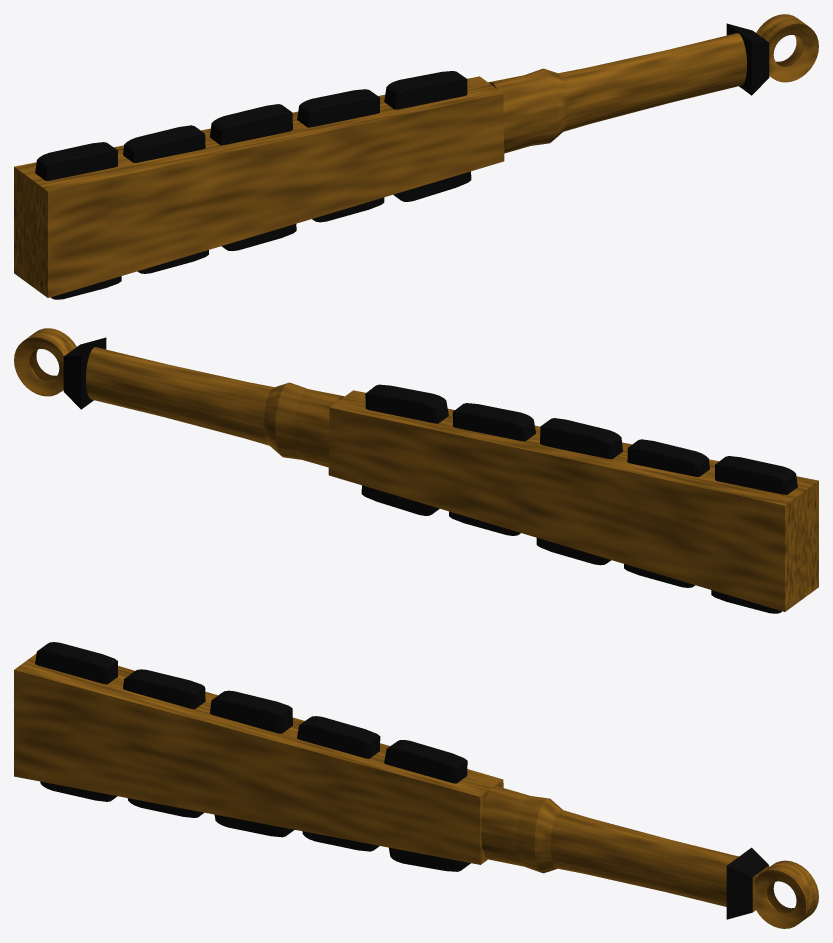
Rendered from macahuitl.fbx.
3 renders of one model, top to bottom at view 1: azimuth 30°, elevation 25°; view 2: azimuth 150°, elevation 25°; view 3: azimuth 330°, elevation 25°, orthographic.
Parts seen in each view (by area): view 1: Cylinder.001; view 2: Cylinder.001; view 3: Cylinder.001.
Boxes of the visible parts, bbox=[...] form: Cylinder.001: bbox=[14, 14, 818, 299]; Cylinder.001: bbox=[14, 328, 818, 613]; Cylinder.001: bbox=[14, 642, 818, 928].
Bounding box in the file's own units: 7636 × 1304 × 574.
Materials: 2 (2 with a texture image).
